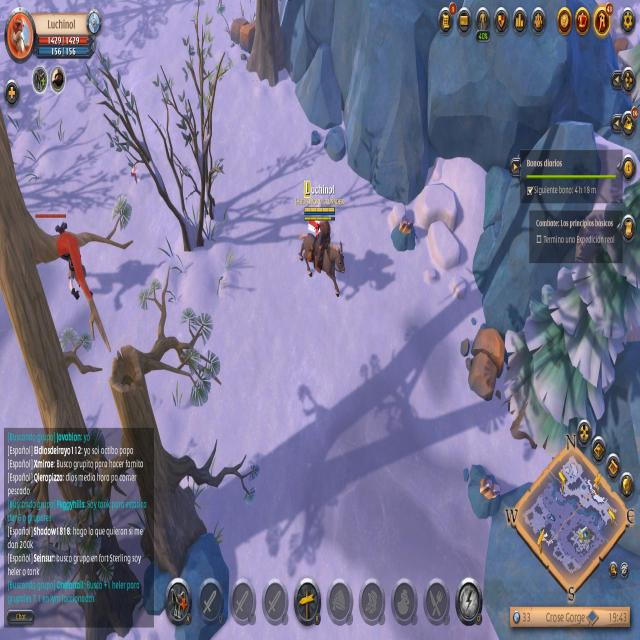piedra_cobre: (466, 464, 502, 518), (390, 216, 414, 252)
